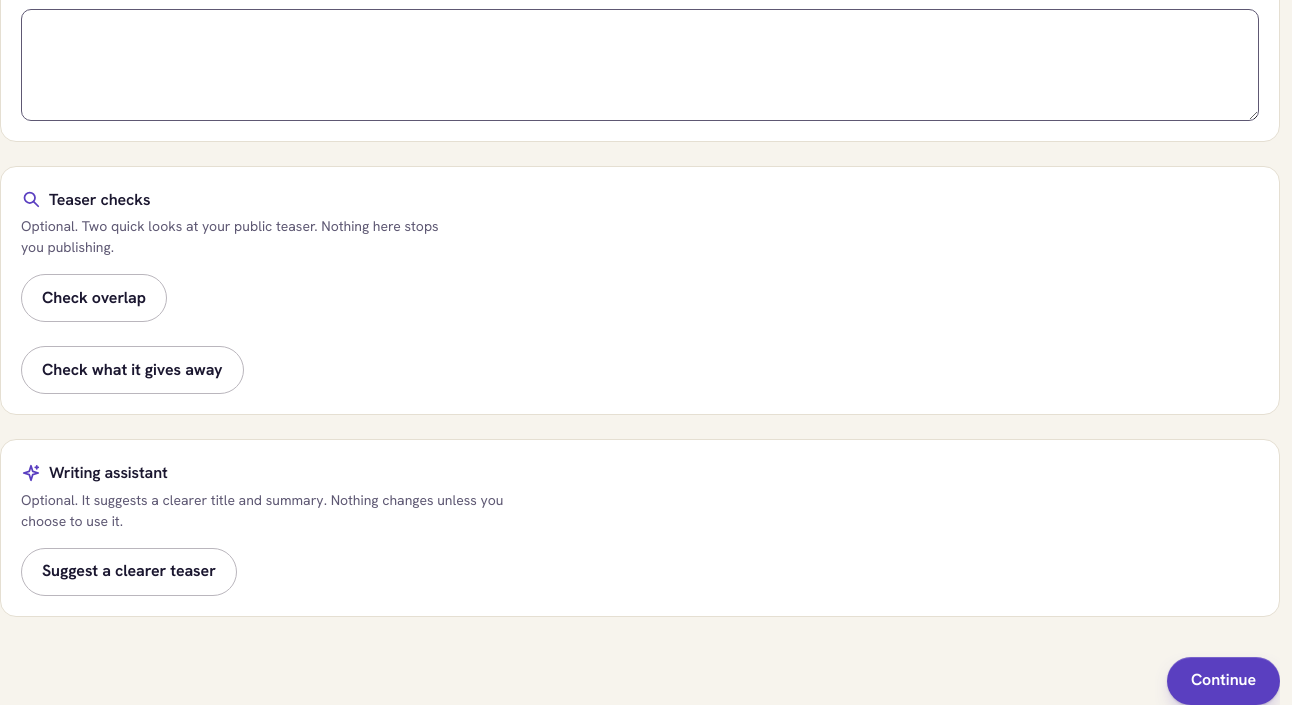
Test: a suggestion › sits beside the current title and summary, labelled AI-drafted, with the placement hints
This screenshot has width=1292, height=705.
(page scrolled)
Click the button "Suggest a clearer teaser": (129, 572) [21, 548, 237, 596]
(page scrolled)
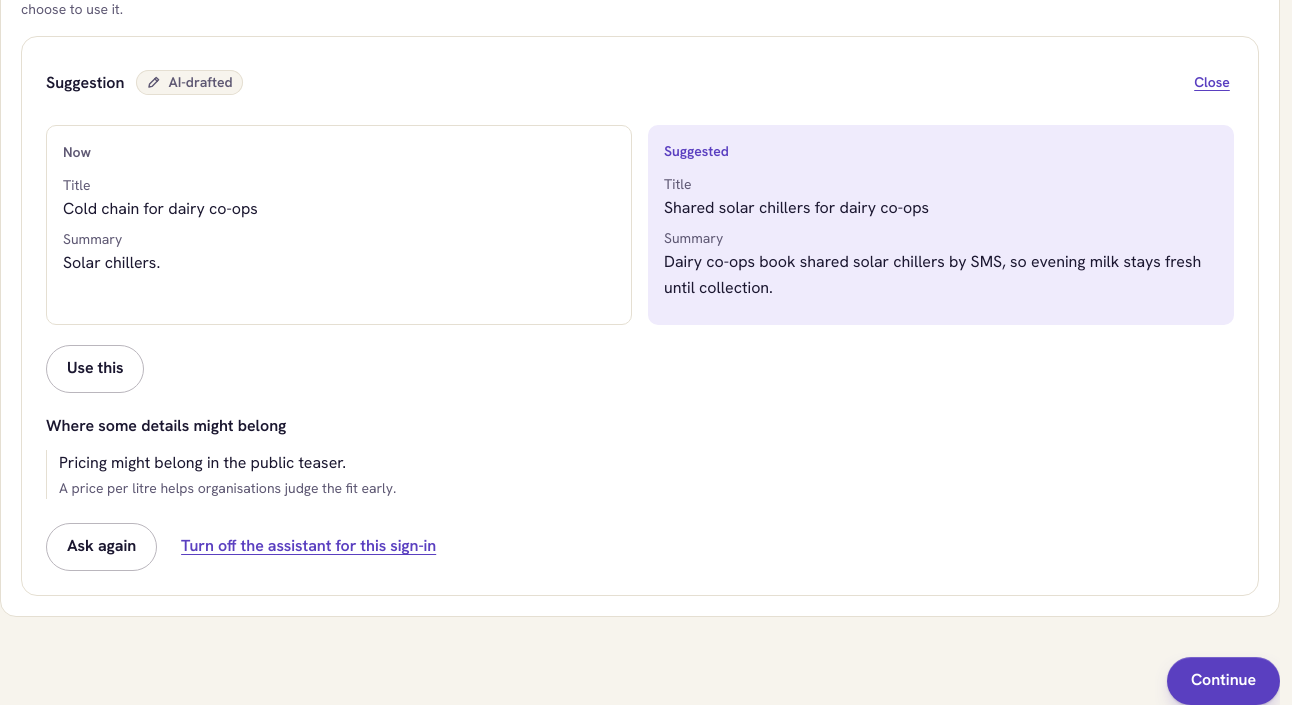
Now the element that starts with "Now" shows "Cold chain for dairy co-ops", box [63, 198, 258, 219]
Now the element that starts with "Now" shows "Solar chillers.", box [63, 252, 160, 273]
Now the element that starts with "Suggested" shows "Shared solar chillers for dairy co-ops", box [664, 197, 929, 218]
